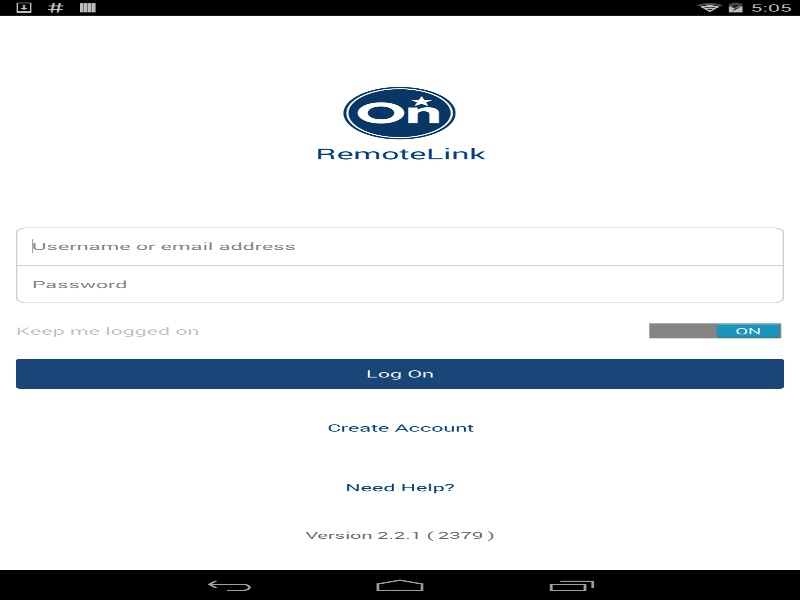Button: (16, 358, 784, 388)
Input: (16, 227, 784, 265), (16, 265, 784, 303)
